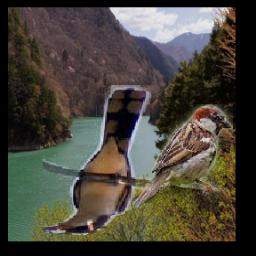Cuckoo: (43, 85, 151, 235)
Sparrow: (132, 105, 232, 208)
